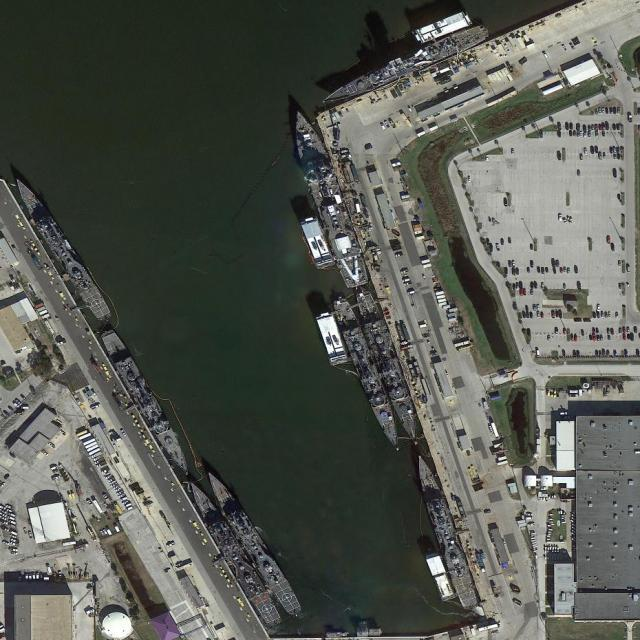Frigate: (200, 467, 306, 621), (8, 171, 112, 324), (182, 476, 284, 628), (319, 22, 490, 109), (98, 328, 196, 478), (332, 296, 403, 454), (411, 452, 481, 612), (354, 291, 425, 448)
Other Warship: (286, 105, 370, 290)
